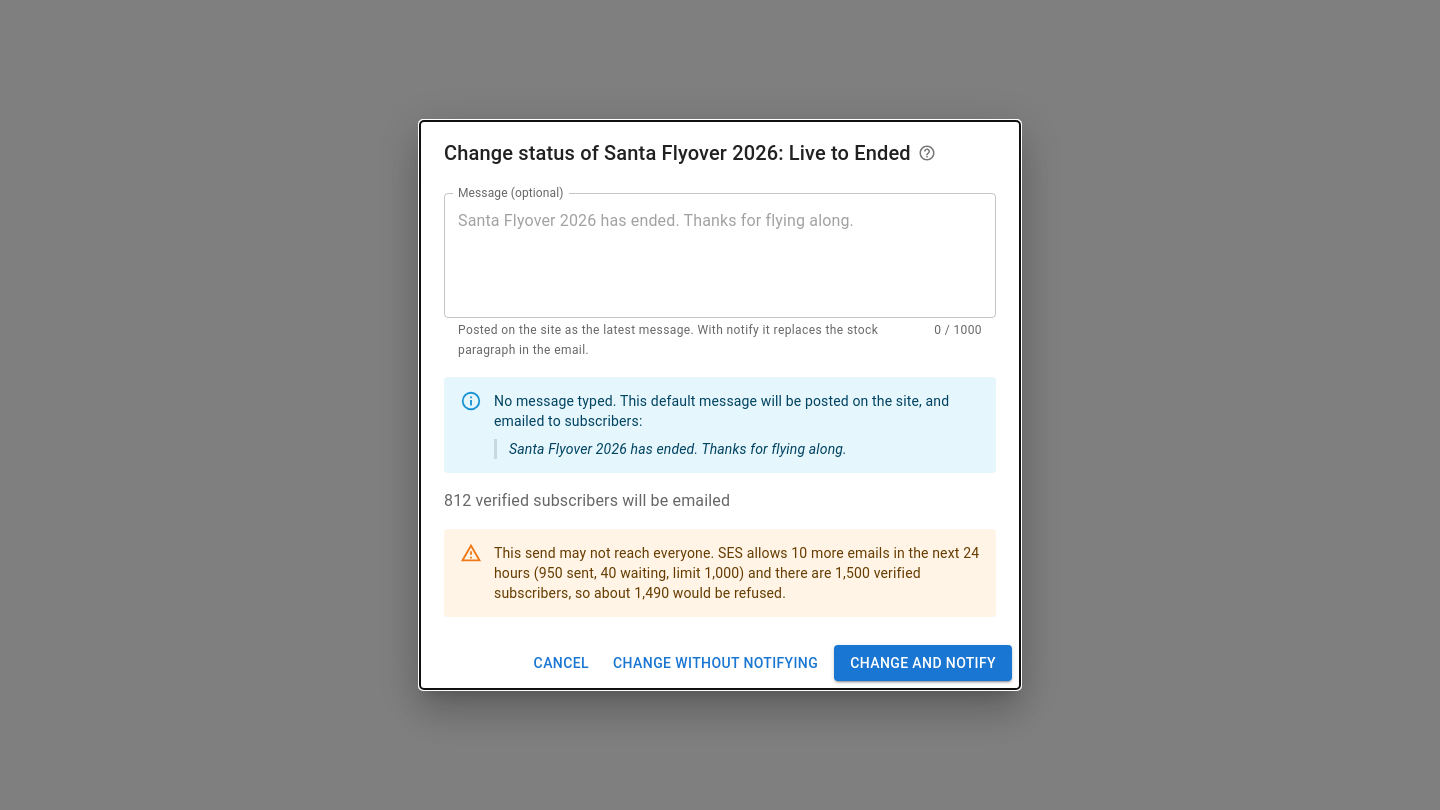
Test: StatusDialog › hides the email quota notice in the nested silent confirmation
Expected: the message with test id "email-quota-warning" is shown, [444,529,996,617]
# Opening the nested silent-confirm view hides the notice.
Click the button "Change without notifying".
click(716, 663)  # box [605,645,826,681]
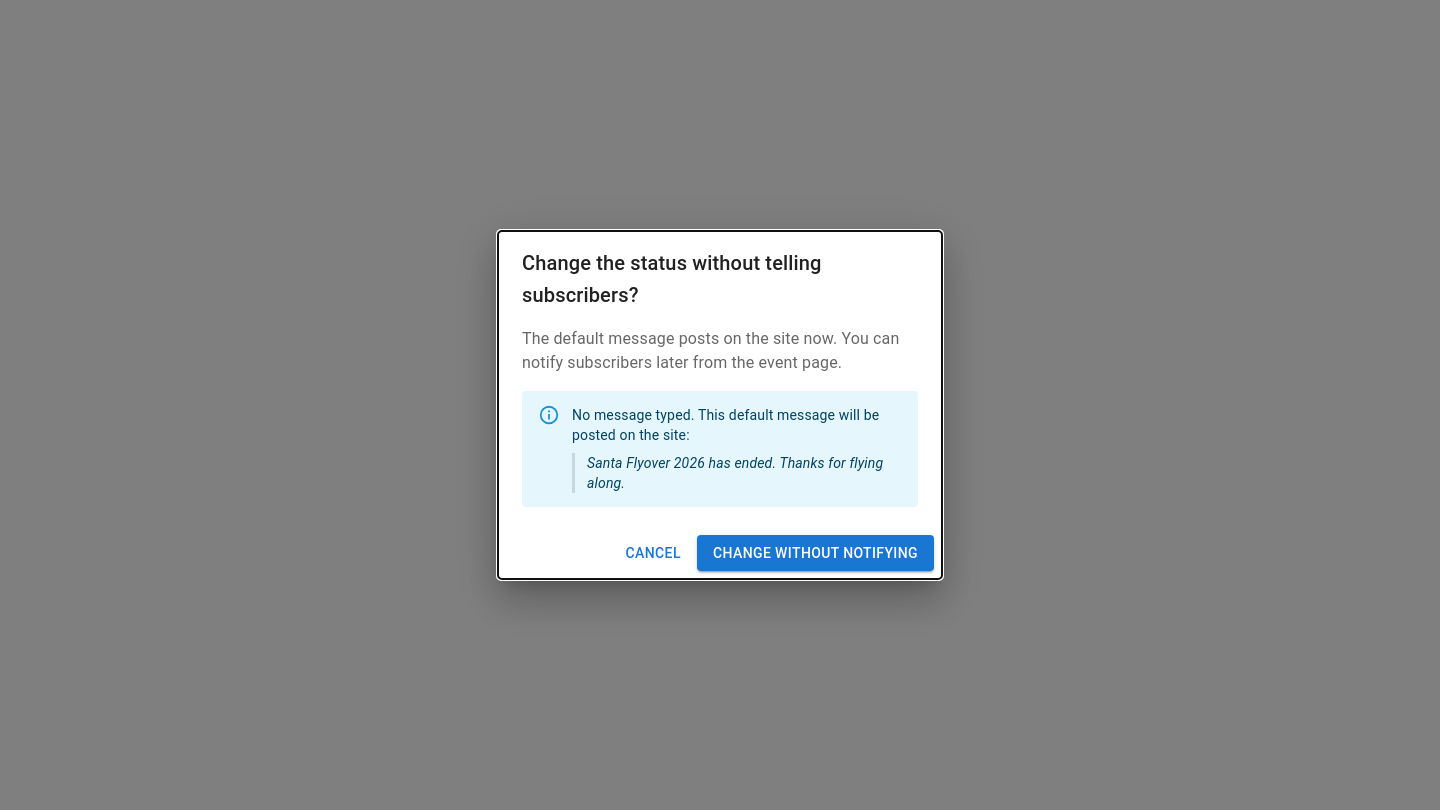
Expected: the message with test id "email-quota-warning" is gone
